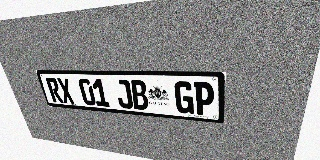0: (77, 79, 97, 106)
1: (90, 79, 110, 107)
B: (130, 80, 149, 110)
G: (174, 81, 194, 114)
J: (114, 79, 134, 109)
P: (194, 82, 214, 116)
R: (45, 78, 64, 103)
X: (56, 78, 75, 104)
